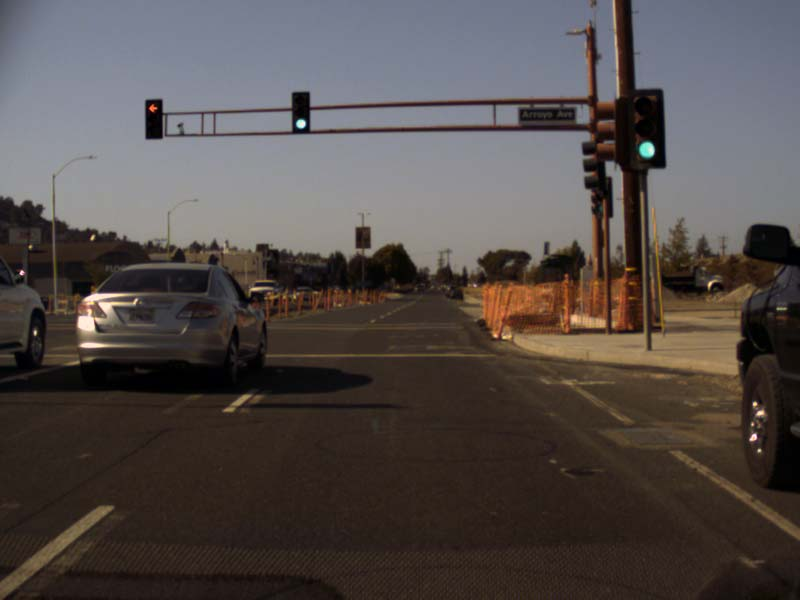Green: (630, 90, 665, 165), (292, 92, 310, 131), (595, 181, 611, 213)
Red: (145, 99, 162, 137)
